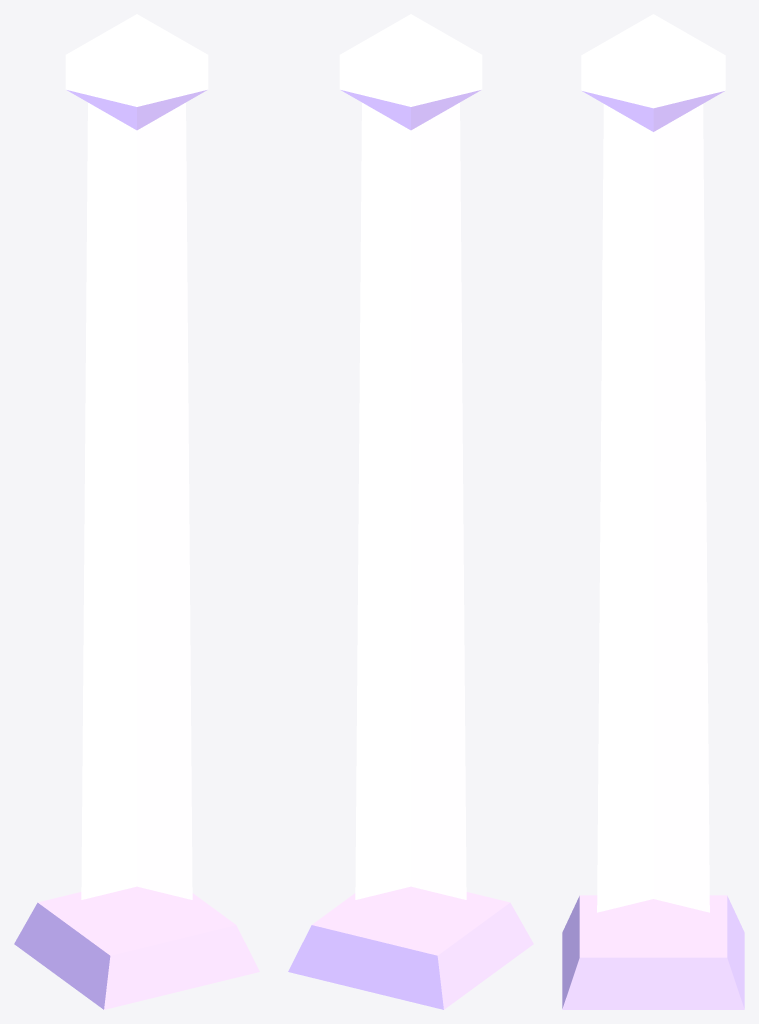
The model's file is mirror-pillar.glb.
3 views of the same model, side by side, from view 1: azimuth 30°, elevation 25°; view 2: azimuth 150°, elevation 25°; view 3: azimuth 270°, elevation 25° (orthographic).
Visible parts, largest first — view 1: mirror-pillar; view 2: mirror-pillar; view 3: mirror-pillar.
Boxes of the visible parts, bbox=[...] form: mirror-pillar: bbox=[14, 14, 259, 1009]; mirror-pillar: bbox=[288, 14, 533, 1009]; mirror-pillar: bbox=[562, 14, 744, 1009].
Bounding box in the file's own units: 1.4 × 8.1 × 1.4.
